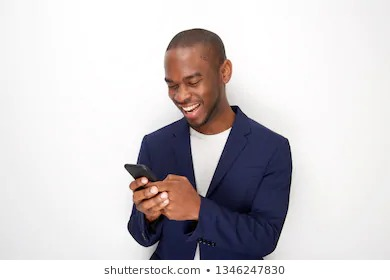F_M_suit jacket: (124, 103, 294, 259)
